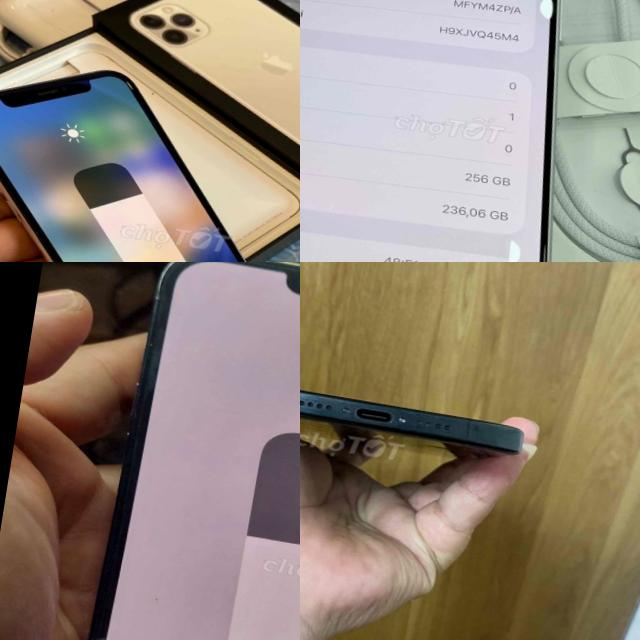gen_11: (0, 43, 300, 262)
gen_12_13: (58, 262, 300, 640)
gen_15: (300, 366, 539, 484)
gen_17: (300, 0, 639, 262)
scratch: (380, 408, 532, 456), (300, 383, 354, 424)
